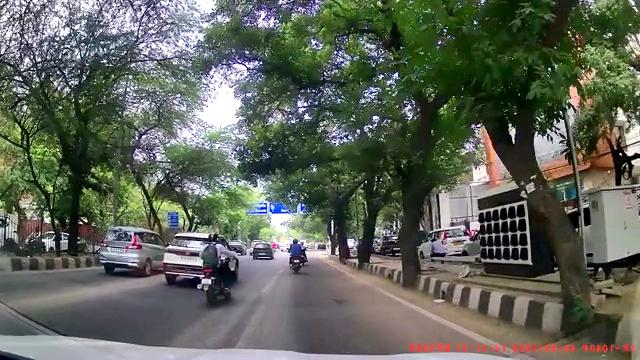motorcycle_with_helmet: (199, 232, 237, 305), (289, 238, 302, 274)
